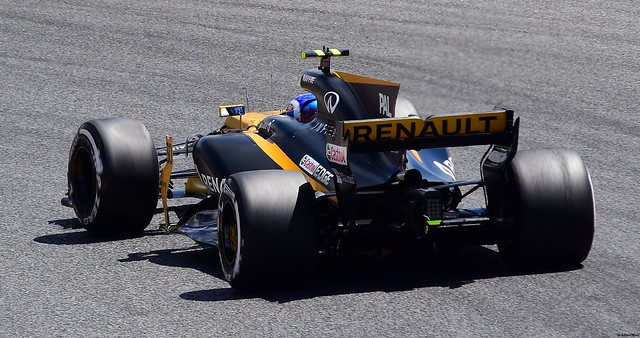F1 Car: (61, 43, 602, 295)
